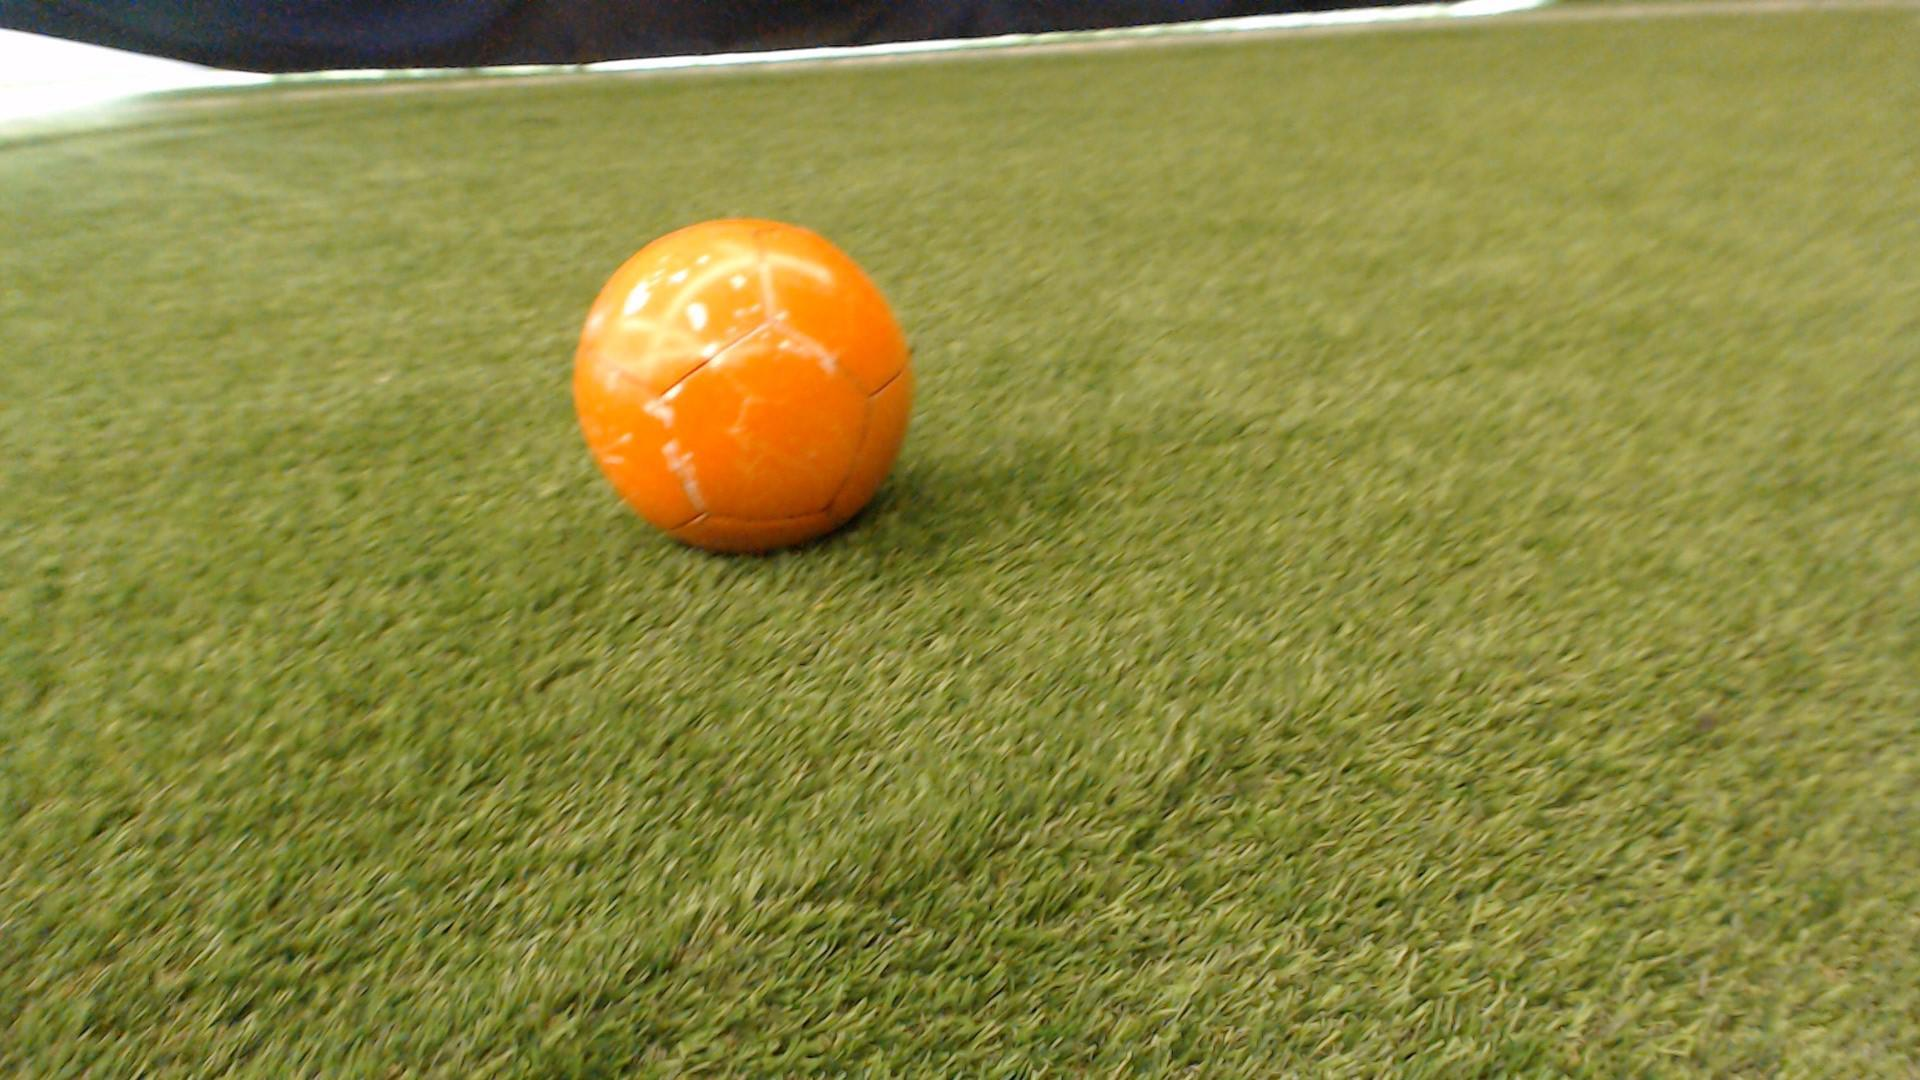bola: (558, 195, 959, 604)
